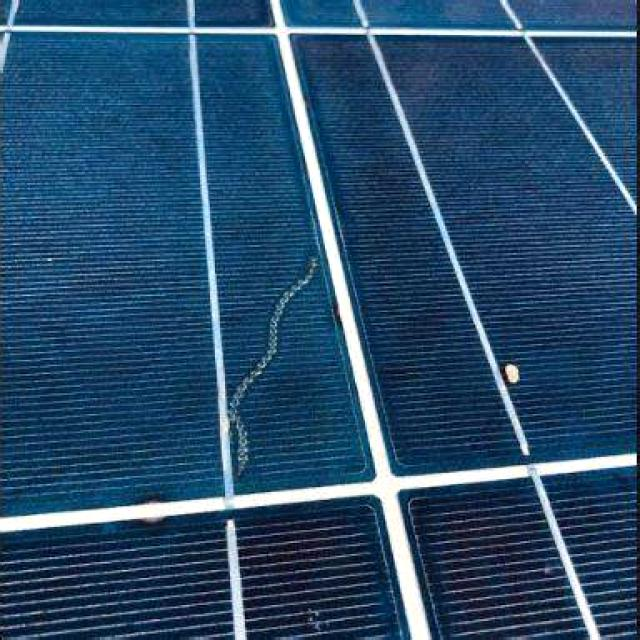shadow: (208, 236, 323, 488)
